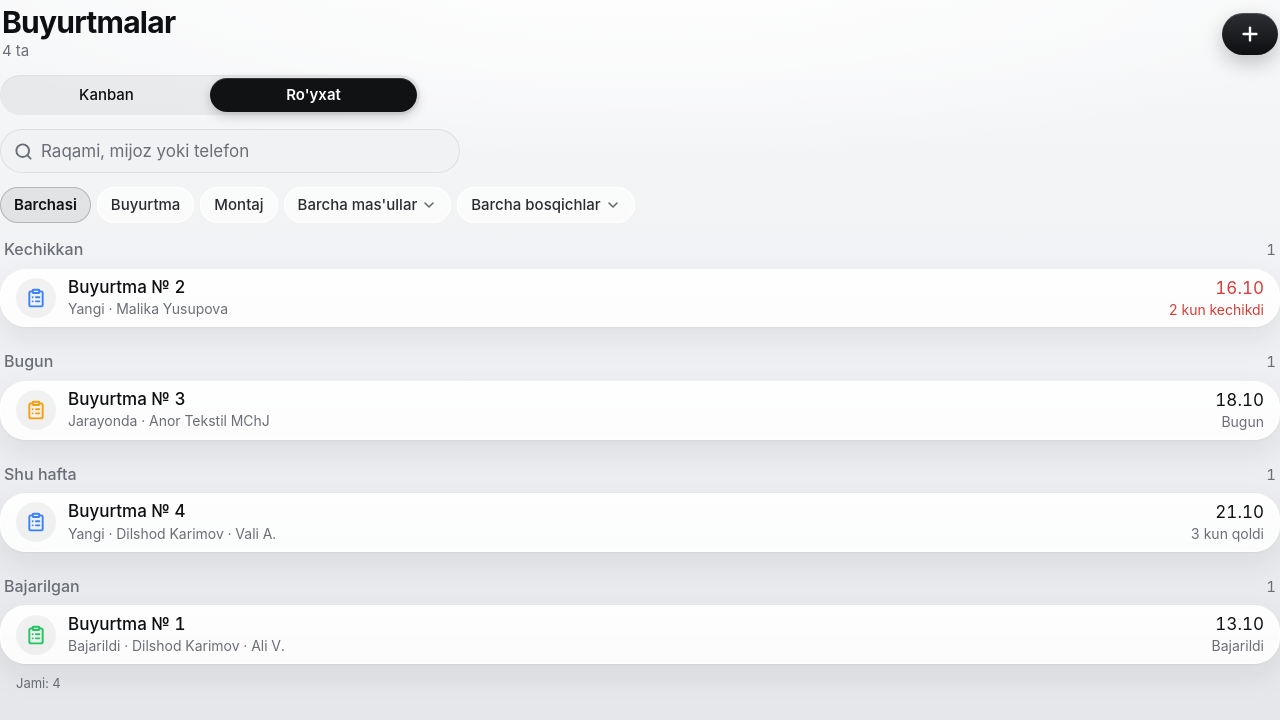
Boshqa mijoz lets the customer go: the phone and the fields come back, empty
This screenshot has width=1280, height=720.
Click the button named "Buyurtma qo'shish".
click(1250, 34)  # box [1222,13,1278,55]
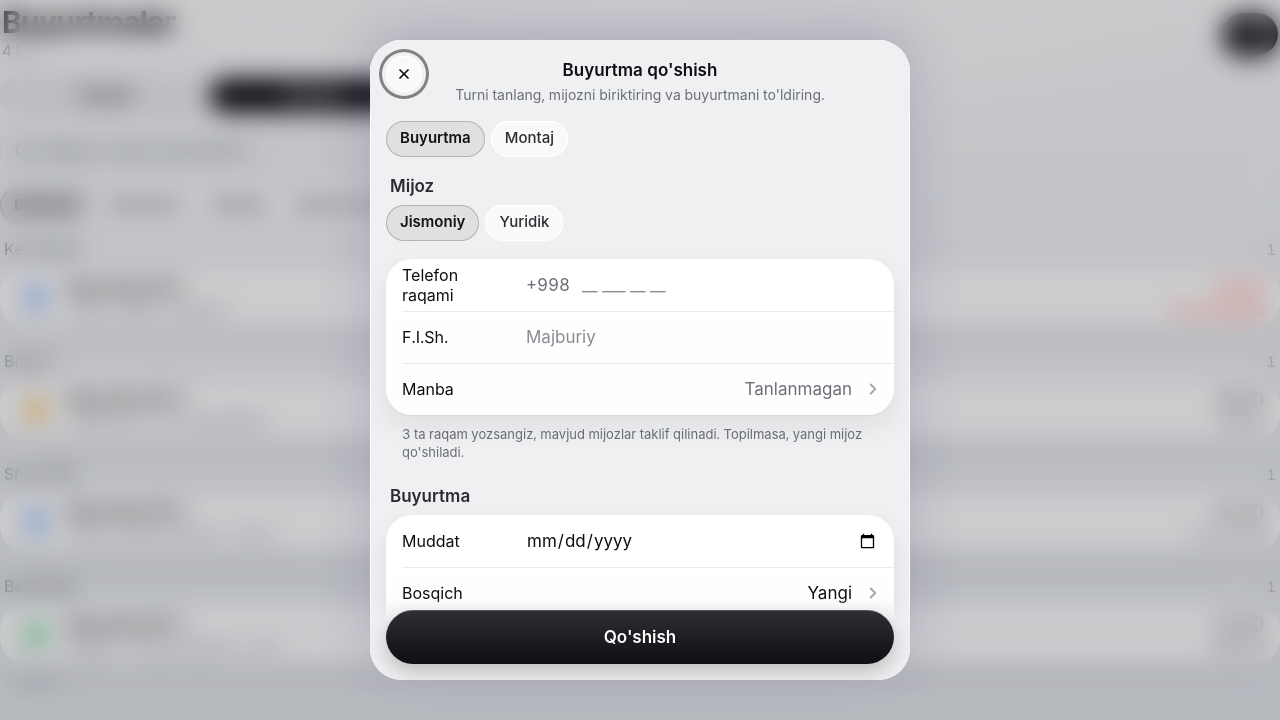
Type "911" into the dropdown labelled "Telefon raqami".
click(730, 285); type("911")  # box [582,263,878,307]
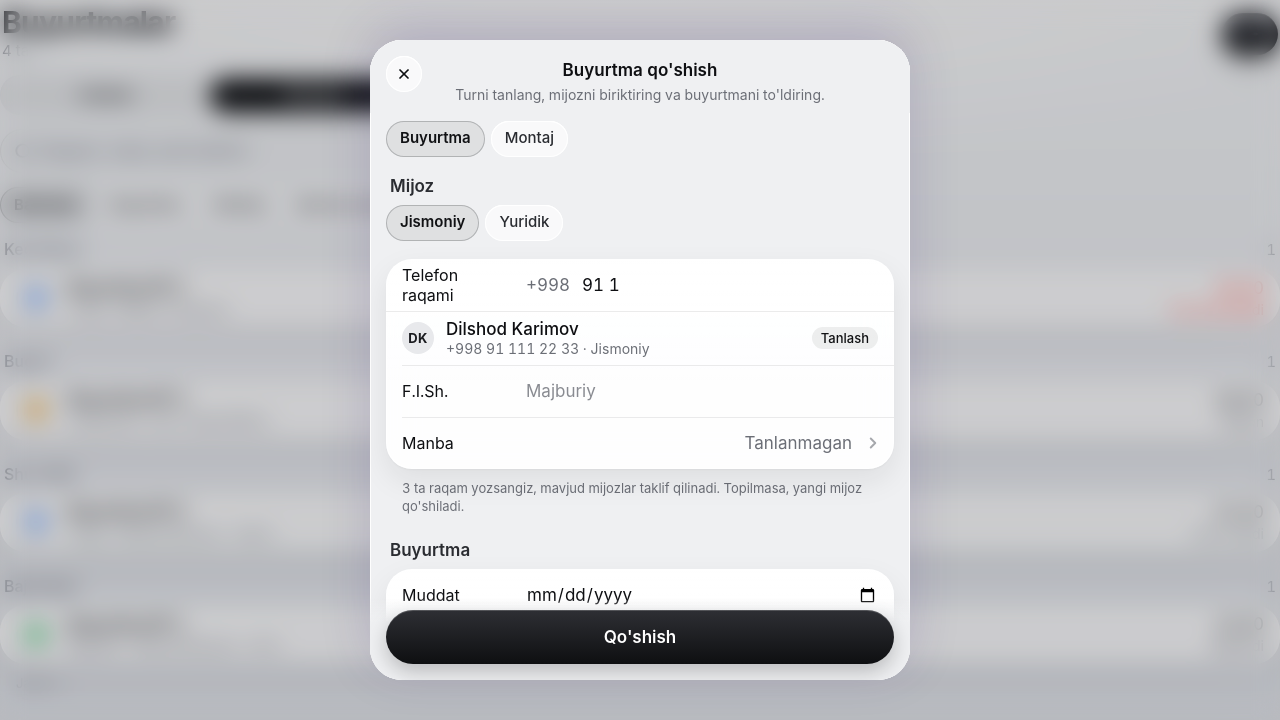
Click the option "DK Dilshod Karimov +998 91 111 22 33 · Jismoniy Tanlash".
click(640, 338)  # box [386,312,894,365]
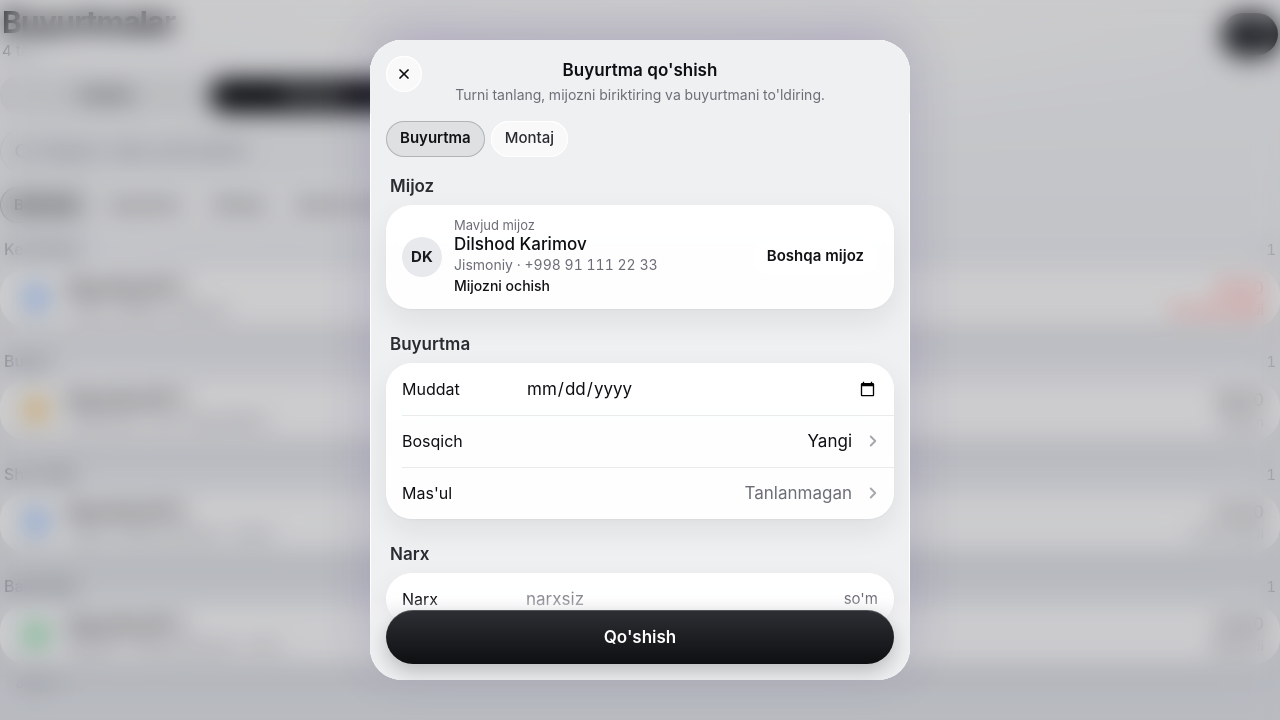
Now the text "Dilshod Karimov" is shown, box [454,234,587,254]
Click the button "Boshqa mijoz".
click(815, 257)  # box [753,240,878,274]
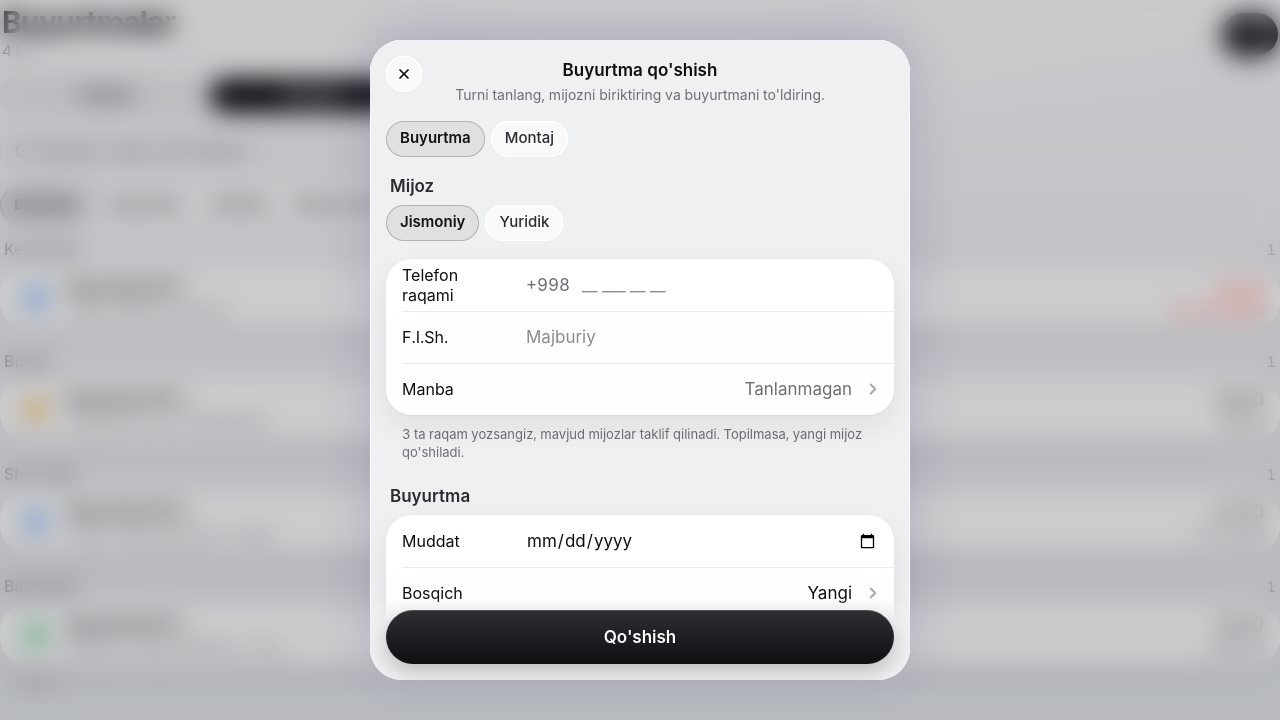
Now the dropdown labelled "Telefon raqami" is empty, box [582,263,878,307]
Now the dropdown labelled "Telefon raqami" is enabled, box [582,263,878,307]
Now the field labelled "F.I.Sh." is empty, box [526,315,878,359]
